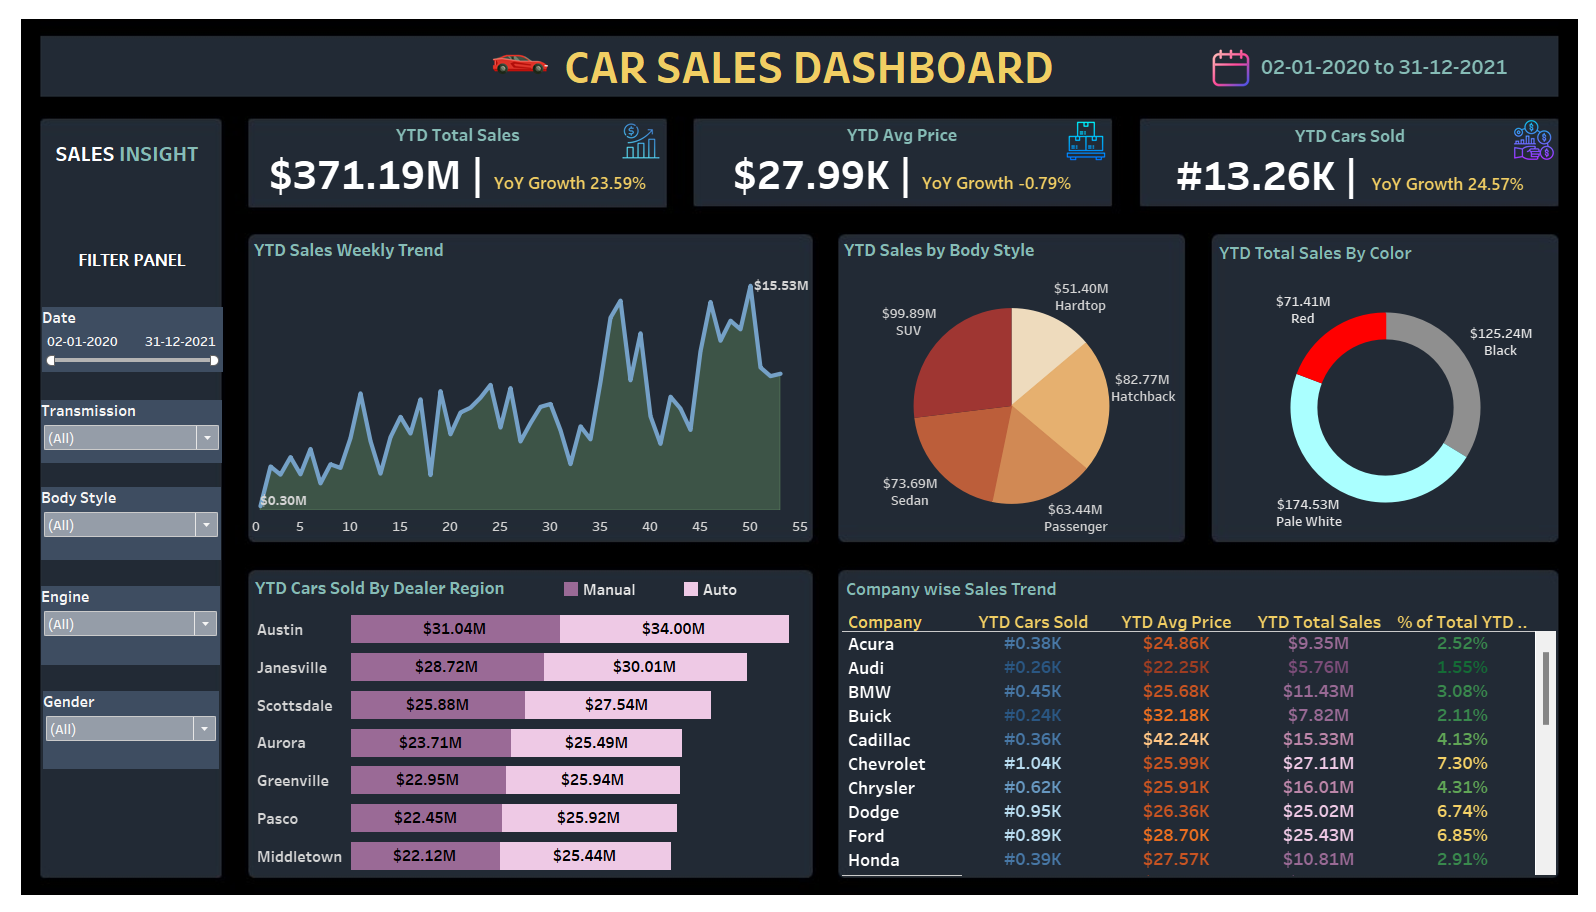

Layout of this report page (visuals, bound fields, positions):
{"tool":"tableau","page":{"name":"Dashboard 1","canvas":[1600,900],"ordinal":0},"visuals":[{"type":"image","param":"E:/DATA ANALYTICS/TABLEAU PROJECTS/PROJECT 2/Car Sales Background.jpg","box":[8,8,1584,884]},{"type":"image","param":"E:/DATA ANALYTICS/TABLEAU PROJECTS/PROJECT 2/Images Used/sport-car.png","box":[487,29,66,56]},{"type":"text","box":[548,29,522,58]},{"type":"worksheet","title":"Date Range","mark":"Automatic","box":[1212,31,346,57]},{"type":"image","param":"E:/DATA ANALYTICS/TABLEAU PROJECTS/PROJECT 2/Images Used/calendar.png","box":[1208,40,46,41]},{"type":"image","param":"E:/DATA ANALYTICS/TABLEAU PROJECTS/PROJECT 2/Images Used/Cars Sold Icon.png","box":[1511,112,46,41]},{"type":"image","param":"E:/DATA ANALYTICS/TABLEAU PROJECTS/PROJECT 2/Images Used/Sales Icon.png","box":[618,113,46,41]},{"type":"worksheet","title":"YTD Avg Price","mark":"Automatic","box":[695,113,415,83]},{"type":"image","param":"E:/DATA ANALYTICS/TABLEAU PROJECTS/PROJECT 2/Images Used/Avg Price Icon.png","box":[1063,113,46,41]},{"type":"worksheet","title":"YTD Total Sales","mark":"Automatic","box":[252,114,412,83]},{"type":"worksheet","title":"YTD Cars Sold","mark":"Automatic","box":[1143,115,415,82]},{"type":"text","box":[52,131,150,30]},{"type":"worksheet","title":"YTD Sales Weekly Trend","mark":"Area","rows":["Calculation_591660452321329152","Calculation_591660452321329152"],"cols":["Date"],"box":[250,227,560,306]},{"type":"worksheet","title":"YTD Sales by Body Style","mark":"Pie","box":[840,227,343,306]},{"type":"worksheet","title":"YTD Total Sales By Color","mark":"Pie","rows":["Calculation_591660452374659082","Calculation_591660452374716428"],"box":[1215,229,341,304]},{"type":"text","box":[43,237,177,30]},{"type":"filter","title":"YTD Sales Weekly Trend","param":"[federated.1o9uuyt1v45exy1g49rl002l9kq2].[none:Date:qk]","box":[42,300,181,65]},{"type":"filter","title":"YTD Sales Weekly Trend","param":"[federated.1o9uuyt1v45exy1g49rl002l9kq2].[none:Transmission:nk]","box":[41,393,181,63]},{"type":"filter","title":"YTD Sales Weekly Trend","param":"[federated.1o9uuyt1v45exy1g49rl002l9kq2].[none:Body Style:nk]","box":[41,480,180,73]},{"type":"worksheet","title":"YTD Cars Sold By Dealer Region","mark":"Automatic","rows":["Dealer_Region"],"cols":["Calculation_591660452321329152"],"box":[251,565,560,303]},{"type":"worksheet","title":"Company wise Sales Trend","mark":"Automatic","rows":["Company"],"box":[842,565,714,304]},{"type":"legend","title":"YTD Cars Sold By Dealer Region","param":"[federated.1o9uuyt1v45exy1g49rl002l9kq2].[none:Transmission:nk]","box":[561,572,245,26]},{"type":"filter","title":"YTD Sales Weekly Trend","param":"[federated.1o9uuyt1v45exy1g49rl002l9kq2].[none:Engine:nk]","box":[41,579,179,79]},{"type":"filter","title":"YTD Sales Weekly Trend","param":"[federated.1o9uuyt1v45exy1g49rl002l9kq2].[none:Gender:nk]","box":[43,684,176,78]}]}

Visuals, with their boxes in screenshot pixels (x1, y1, x2, y2), scaled from the page's 1600x900 canvas onto the 1596x912 screenshot:
image: box(8, 8, 1588, 904)
image: box(486, 29, 552, 86)
text: box(547, 29, 1067, 88)
"Date Range" worksheet: box(1209, 31, 1554, 89)
image: box(1205, 41, 1251, 82)
image: box(1507, 113, 1553, 155)
image: box(616, 115, 662, 156)
"YTD Avg Price" worksheet: box(693, 115, 1107, 199)
image: box(1060, 115, 1106, 156)
"YTD Total Sales" worksheet: box(251, 116, 662, 200)
"YTD Cars Sold" worksheet: box(1140, 117, 1554, 200)
text: box(52, 133, 201, 163)
"YTD Sales Weekly Trend" worksheet (Area marks): box(249, 230, 808, 540)
"YTD Sales by Body Style" worksheet (Pie marks): box(838, 230, 1180, 540)
"YTD Total Sales By Color" worksheet (Pie marks): box(1212, 232, 1552, 540)
text: box(43, 240, 219, 271)
"YTD Sales Weekly Trend" filter: box(42, 304, 222, 370)
"YTD Sales Weekly Trend" filter: box(41, 398, 221, 462)
"YTD Sales Weekly Trend" filter: box(41, 486, 220, 560)
"YTD Cars Sold By Dealer Region" worksheet: box(250, 573, 809, 880)
"Company wise Sales Trend" worksheet: box(840, 573, 1552, 881)
"YTD Cars Sold By Dealer Region" legend: box(560, 580, 804, 606)
"YTD Sales Weekly Trend" filter: box(41, 587, 219, 667)
"YTD Sales Weekly Trend" filter: box(43, 693, 218, 772)
